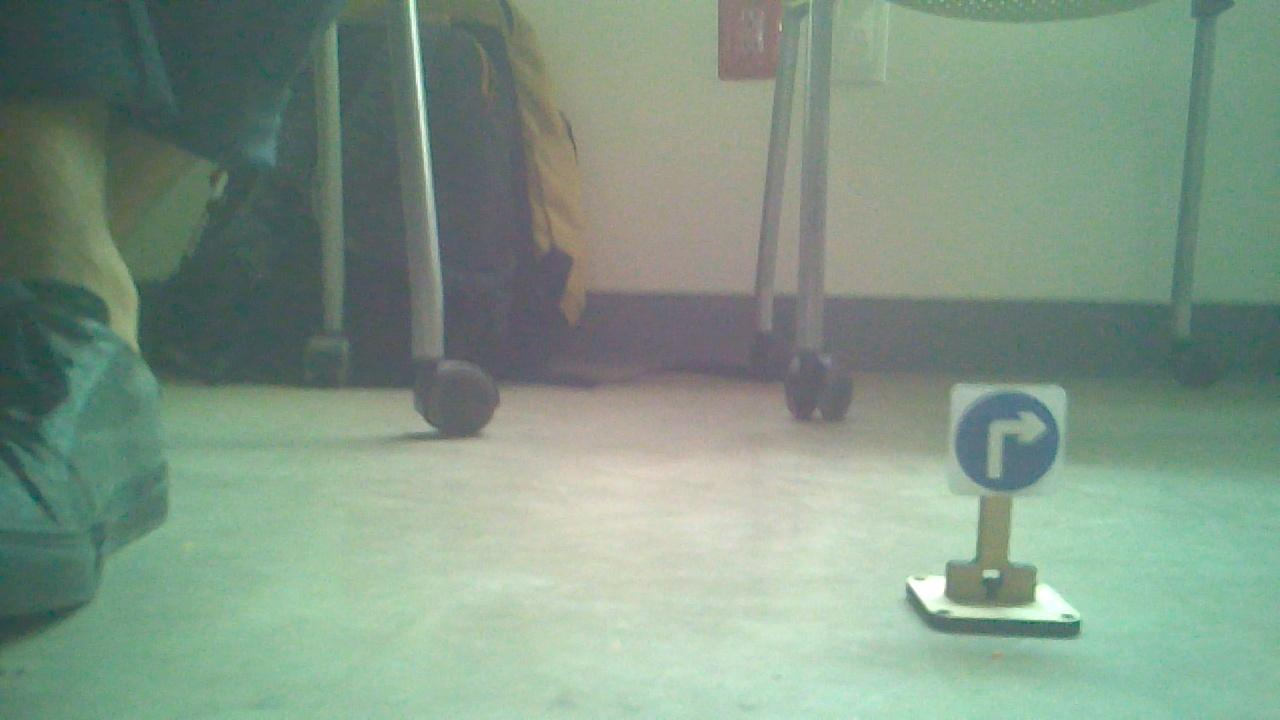turn: (947, 385, 1067, 492)
